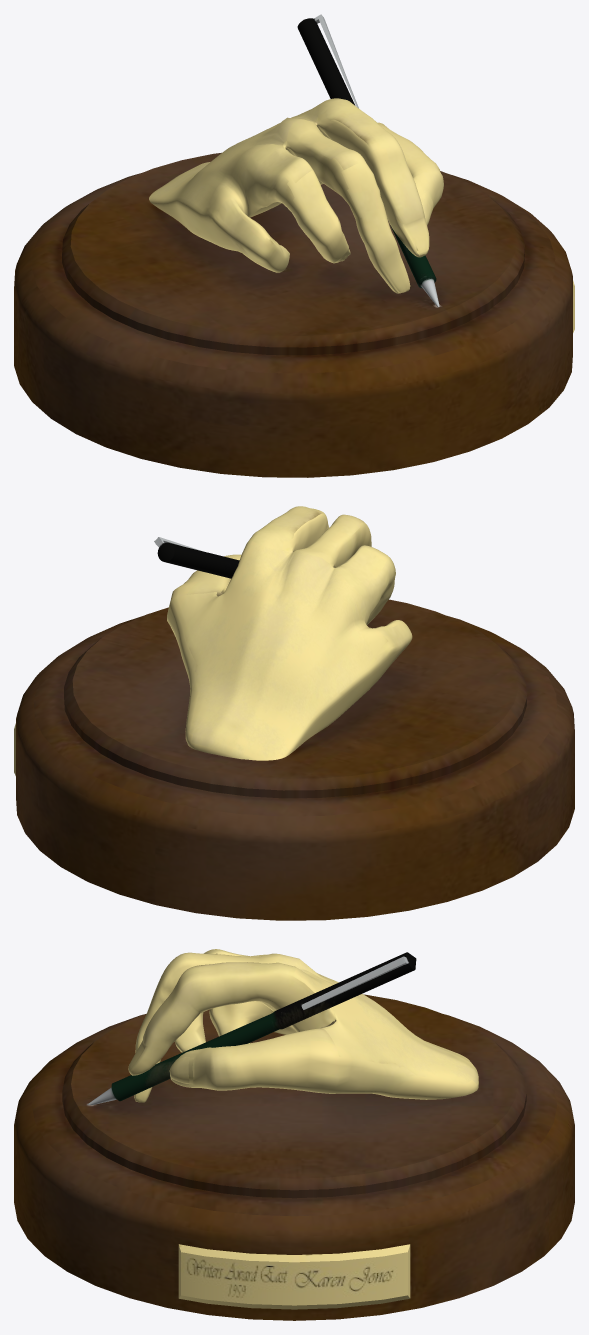
The model's file is WritingAward.glb.
3 views of the same model, one above another, from view 1: azimuth 30°, elevation 25°; view 2: azimuth 150°, elevation 25°; view 3: azimuth 270°, elevation 25° (orthographic).
Visible parts, largest first — view 1: polySurface2, polySurface3, polySurface1; view 2: polySurface2, polySurface3, polySurface1; view 3: polySurface2, polySurface3, polySurface1.
Part boxes in pixels (x1=…): polySurface2: x1=14, y1=152, x2=574, y2=477; polySurface3: x1=149, y1=98, x2=443, y2=293; polySurface1: x1=297, y1=14, x2=439, y2=307; polySurface2: x1=14, y1=599, x2=574, y2=920; polySurface3: x1=167, y1=506, x2=412, y2=760; polySurface1: x1=154, y1=537, x2=239, y2=578; polySurface2: x1=14, y1=994, x2=574, y2=1320; polySurface3: x1=128, y1=949, x2=478, y2=1102; polySurface1: x1=87, y1=952, x2=416, y2=1105.
Size of the model in its own units: 2 by 1.12 by 1.99.
Materials: 1 (1 with a texture image).
